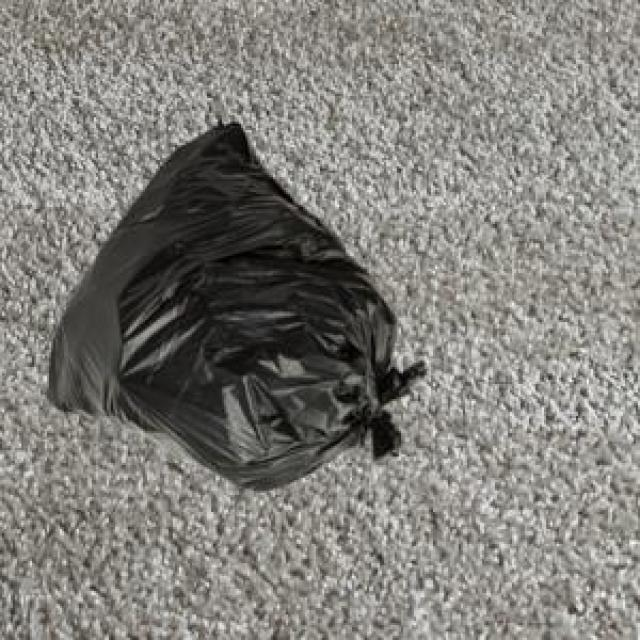waste: (49, 124, 424, 488)
